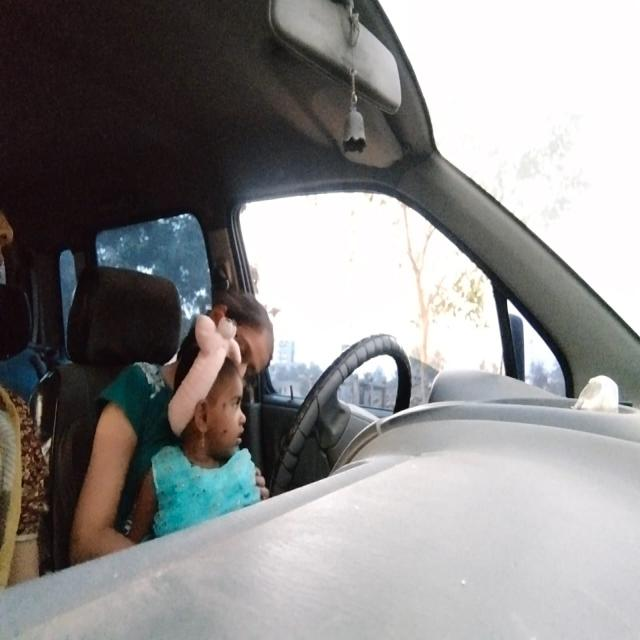child: (168, 364, 258, 466)
person: (209, 276, 279, 368)
